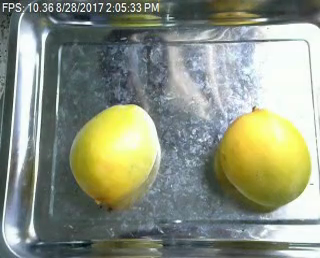Mango: (67, 102, 163, 205), (217, 105, 313, 202)
